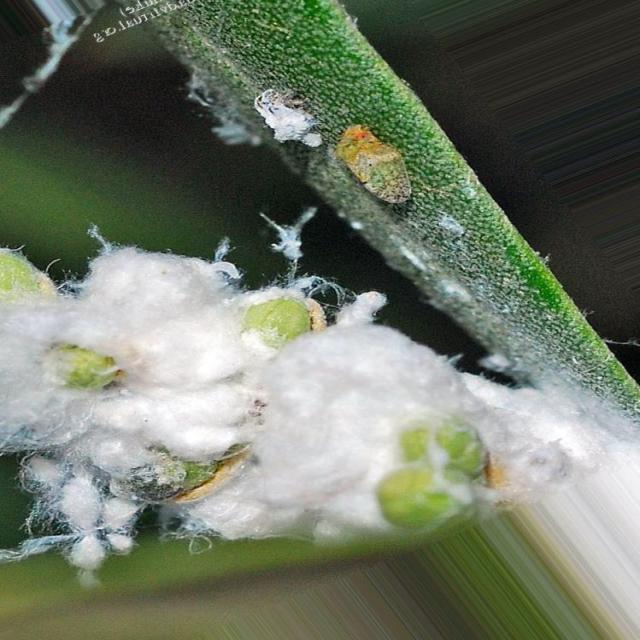Psyllid: (0, 228, 567, 572)
